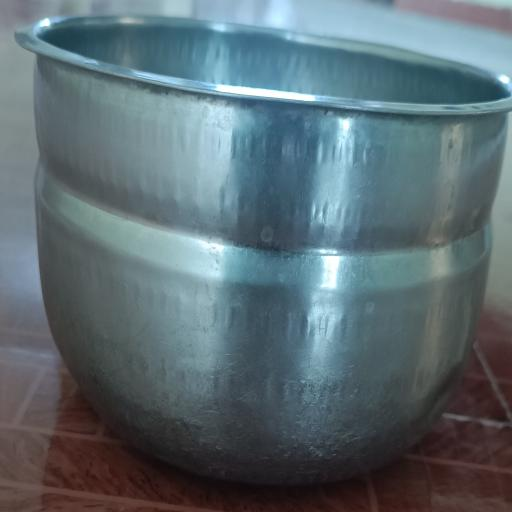vessel: (17, 17, 512, 484)
